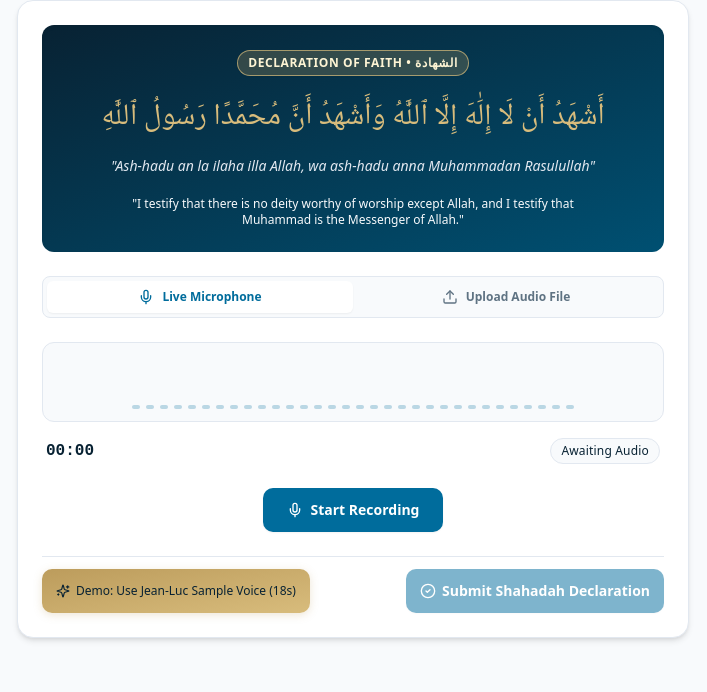
Test: ShahadahRecorder Component (Task 3.1 & 3.2) › handles microphone permission denial gracefully and falls back to upload mode
The width and height of the screenshot is (707, 692).
Click the button "Start Recording".
click(353, 510)  # box [262,488,444,532]
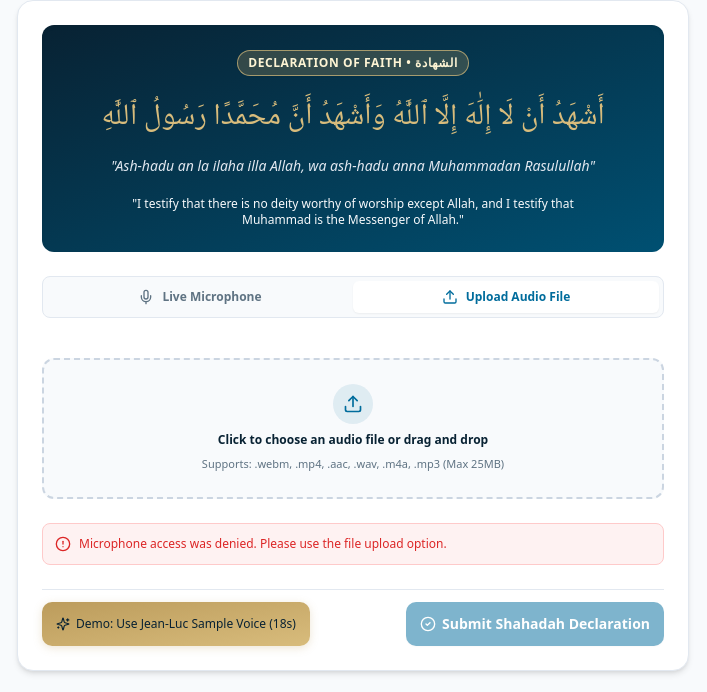
Check: the text "Microphone access was denied. Please use the file upload option." is shown, box [79,536,447,552]
Check: the text "Click to choose an audio file or drag and drop" is shown, box [218,431,488,448]
